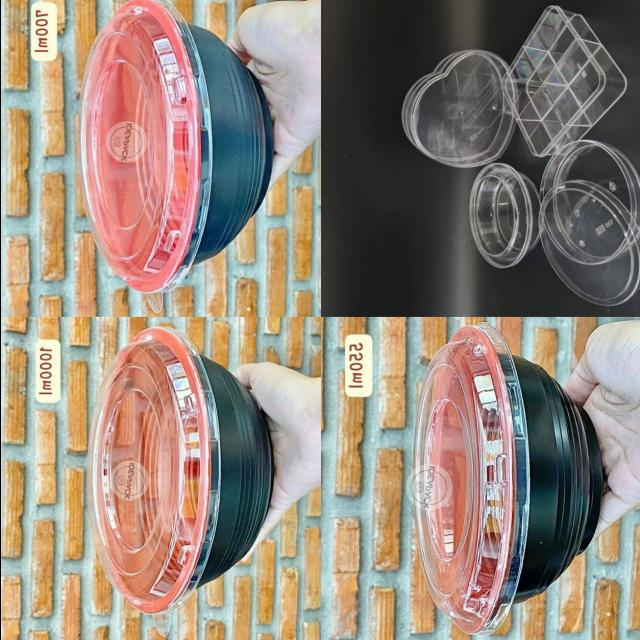plastik: (408, 323, 602, 635), (79, 0, 271, 311), (88, 327, 272, 635), (501, 6, 626, 156), (400, 50, 515, 168), (538, 179, 640, 305), (539, 140, 640, 230), (469, 163, 539, 268)
